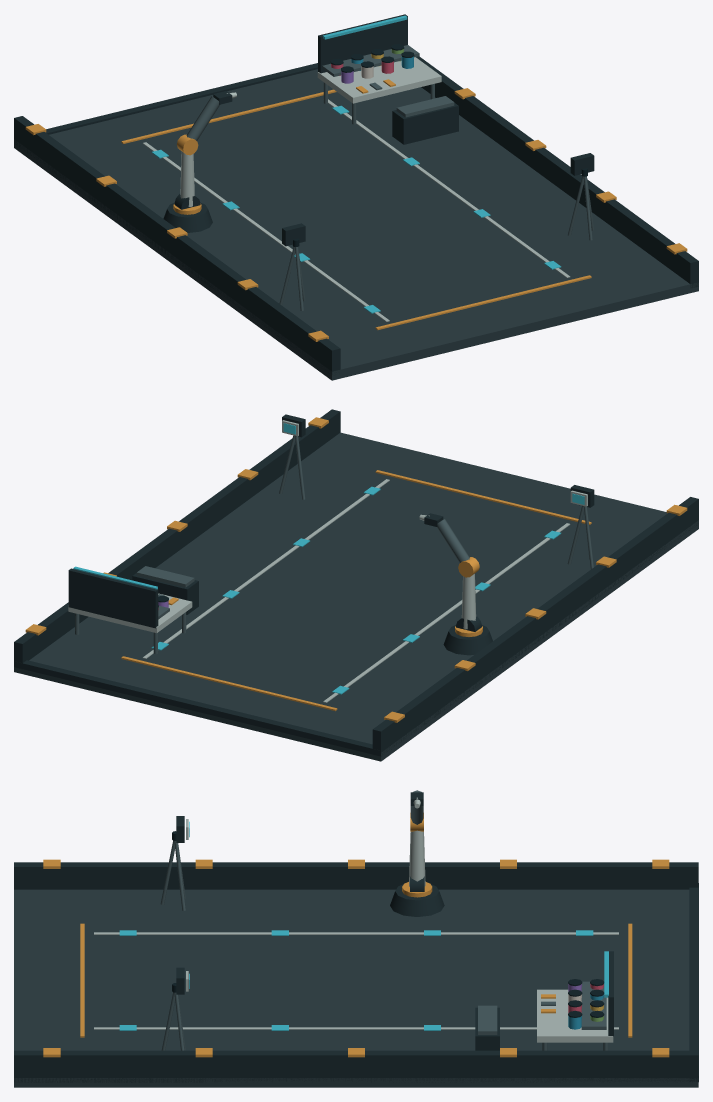
File: mork_garage_d0_lod1.glb
3 views of the same model, one above another, from view 1: azimuth 30°, elevation 25°; view 2: azimuth 150°, elevation 25°; view 3: azimuth 270°, elevation 25° (orthographic). The views are drawn at different scales.
Visible parts, largest first — view 1: GARAGE_STATIC_BODY, ARM_FORE_LINK, ARM_UPPER_LINK; view 2: GARAGE_STATIC_BODY, ARM_FORE_LINK, ARM_UPPER_LINK; view 3: GARAGE_STATIC_BODY, ARM_UPPER_LINK.
Part boxes in pixels (bbox=[...]): GARAGE_STATIC_BODY: bbox=[14, 14, 698, 380]; ARM_FORE_LINK: bbox=[176, 96, 219, 155]; ARM_UPPER_LINK: bbox=[174, 151, 200, 209]; GARAGE_STATIC_BODY: bbox=[14, 409, 698, 761]; ARM_FORE_LINK: bbox=[436, 518, 479, 577]; ARM_UPPER_LINK: bbox=[456, 573, 481, 631]; GARAGE_STATIC_BODY: bbox=[14, 816, 698, 1087]; ARM_UPPER_LINK: bbox=[409, 830, 425, 891].
Size of what is drawn, in the model's own units: 12.14 by 4.07 by 18.01.
